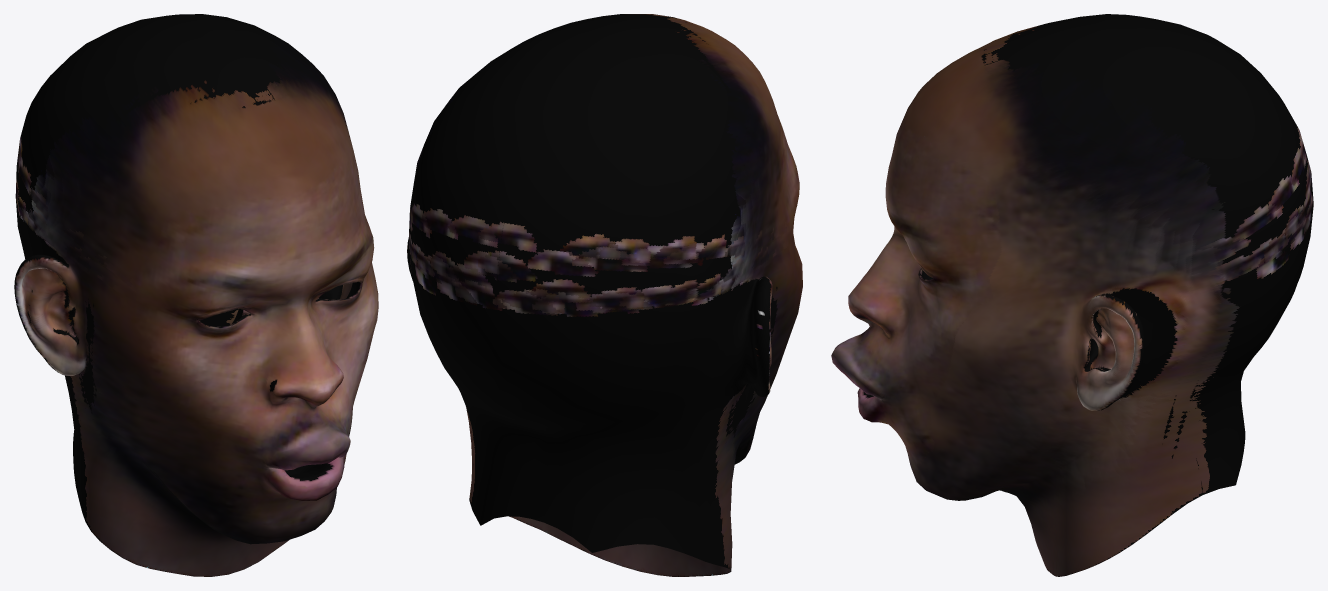
Rendered from Funnel.obj.
3 views of the same model, side by side, from view 1: azimuth 30°, elevation 25°; view 2: azimuth 150°, elevation 25°; view 3: azimuth 270°, elevation 25° (orthographic). The views are drawn at different scales.
Bounding box in the file's own units: 191 × 281 × 233.
